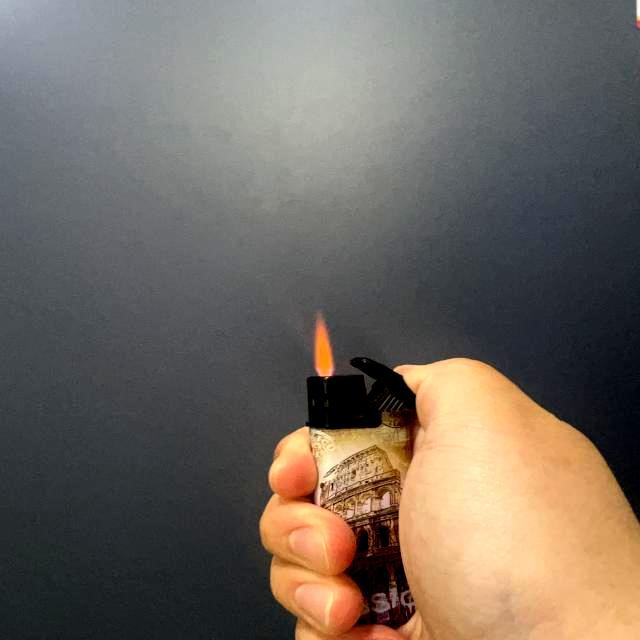fire: (308, 312, 336, 378)
